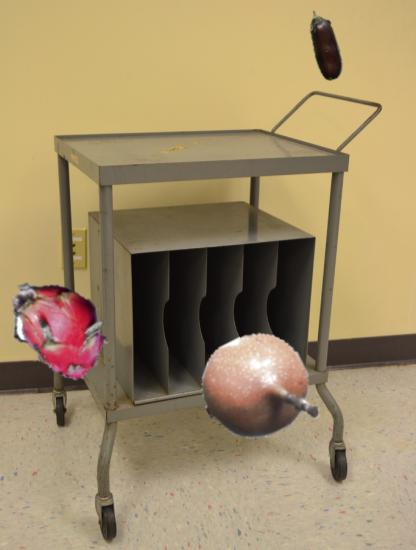Eggplant: (288, 8, 363, 83)
Granadilla: (202, 333, 312, 443)
Pitahaya: (0, 268, 116, 384)
